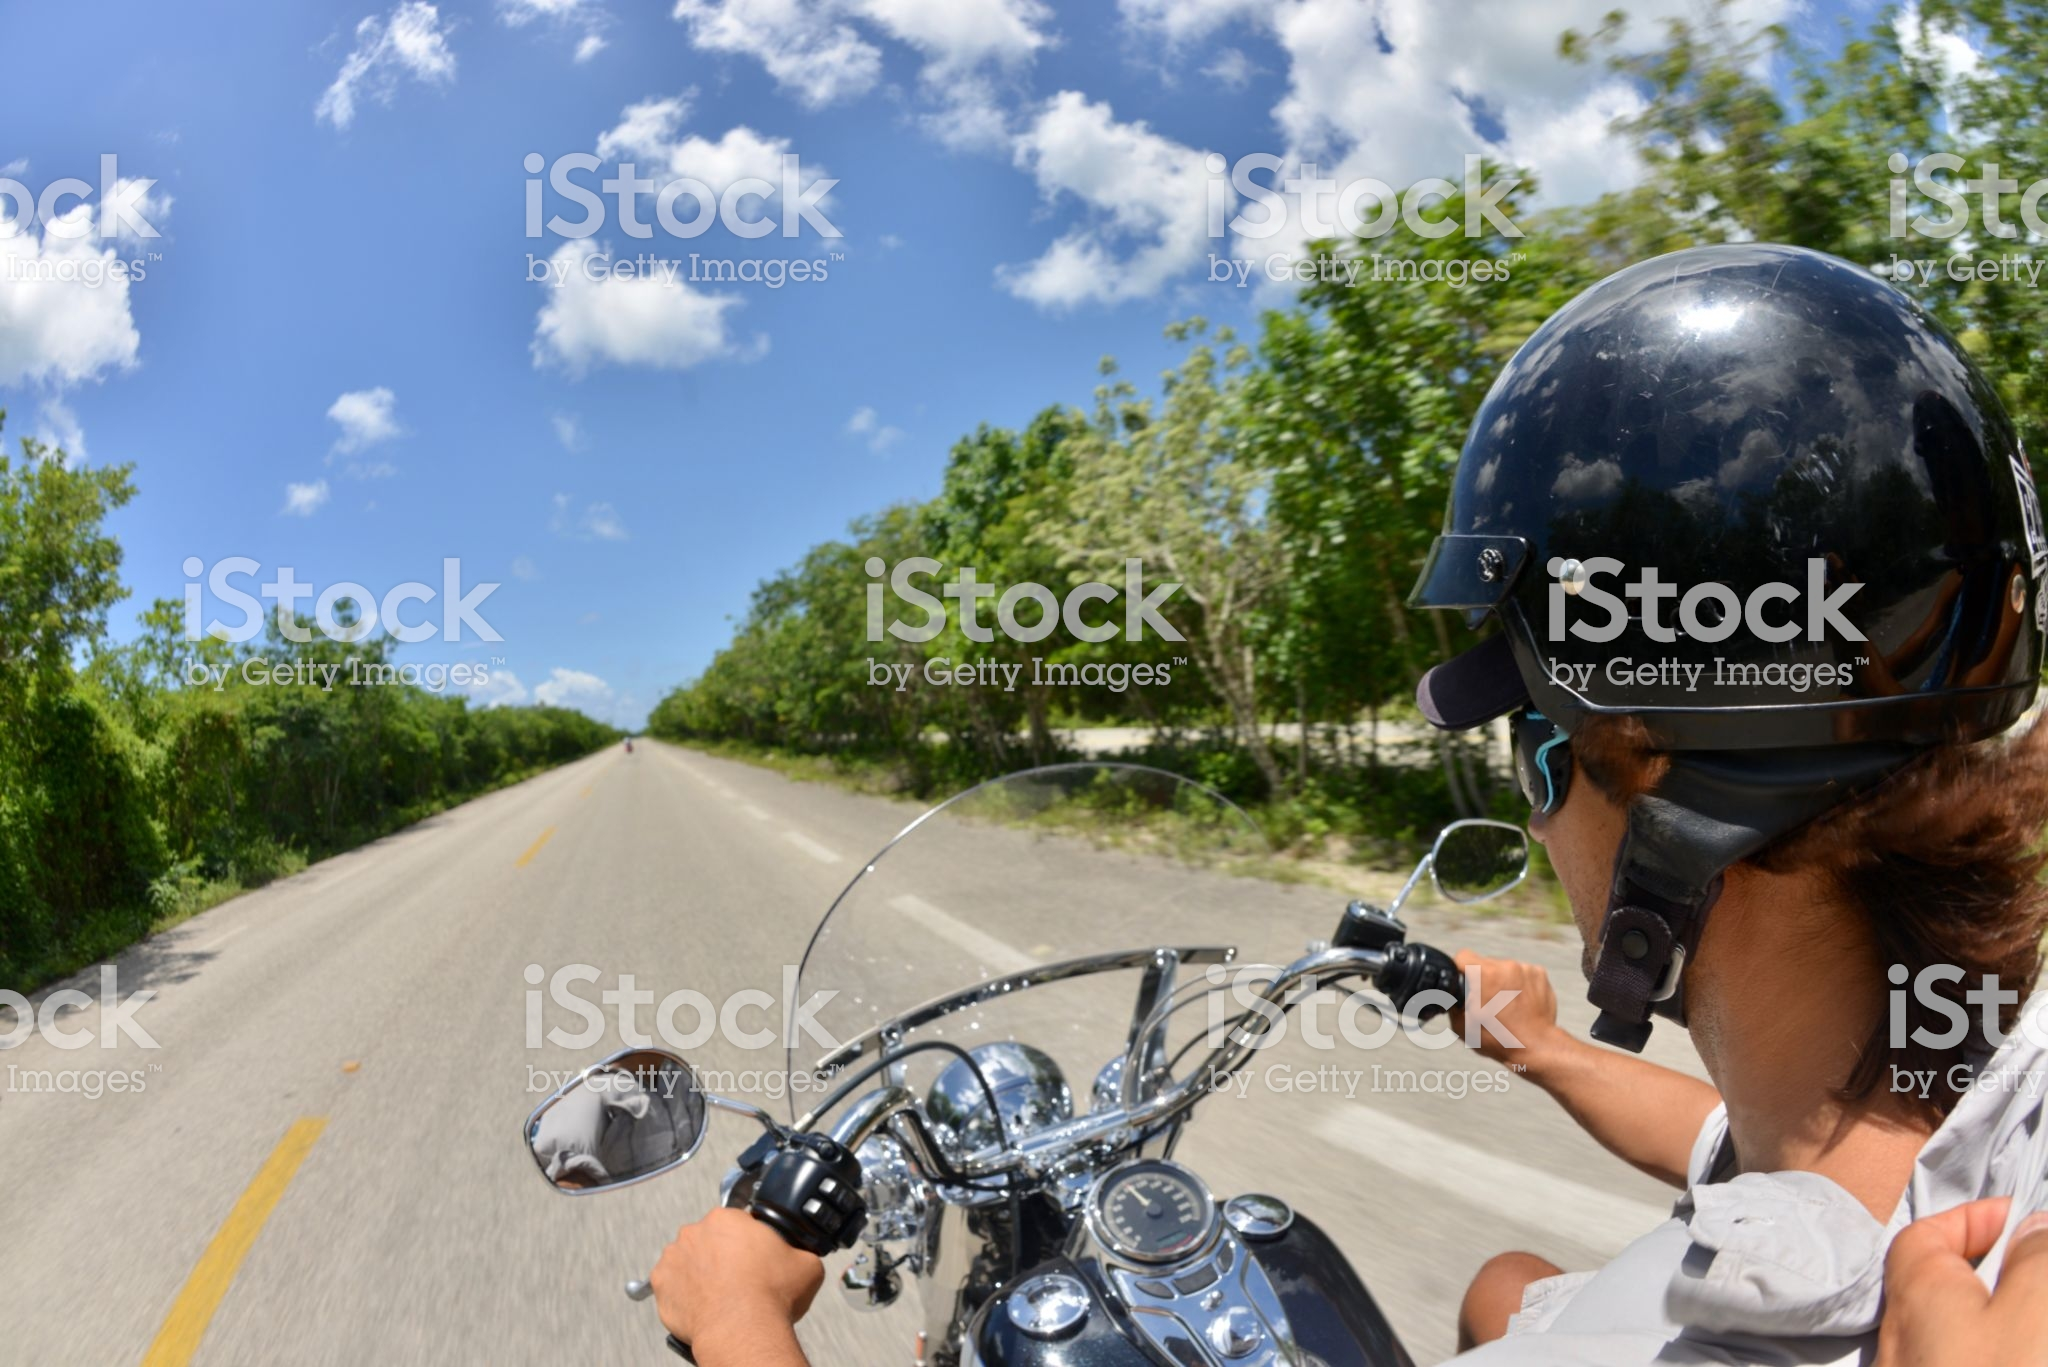helmet: (1430, 224, 2030, 757)
